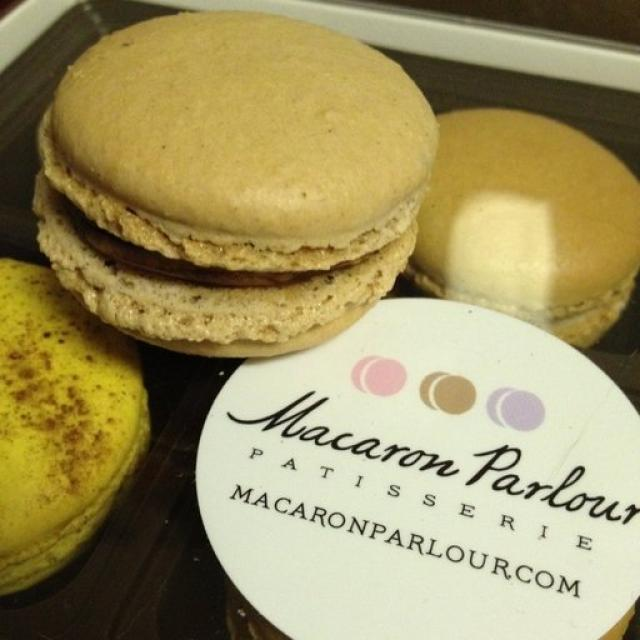Food -Biodegradable-: (33, 8, 437, 361), (406, 110, 640, 348), (0, 259, 153, 592)
